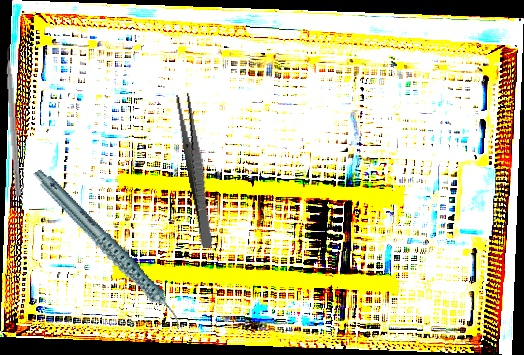Chopper: (3, 37, 30, 197)
Dressing Forceps: (174, 92, 218, 249)
Handpiece: (32, 146, 185, 353)
